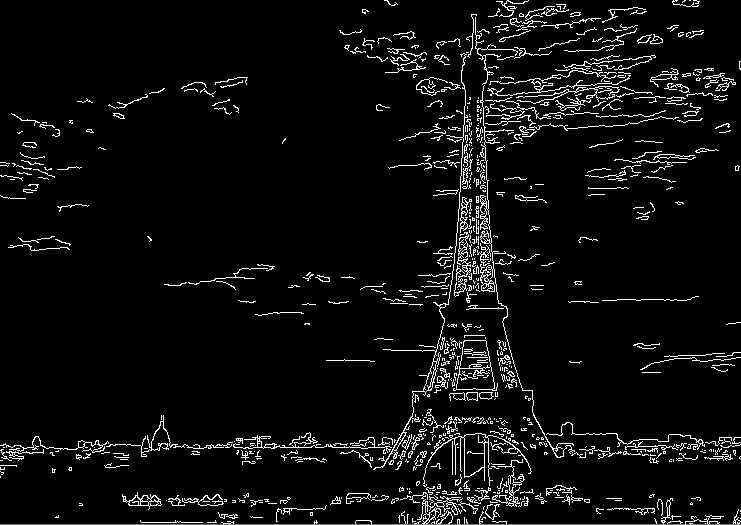eiffel tower: (370, 11, 564, 461)
